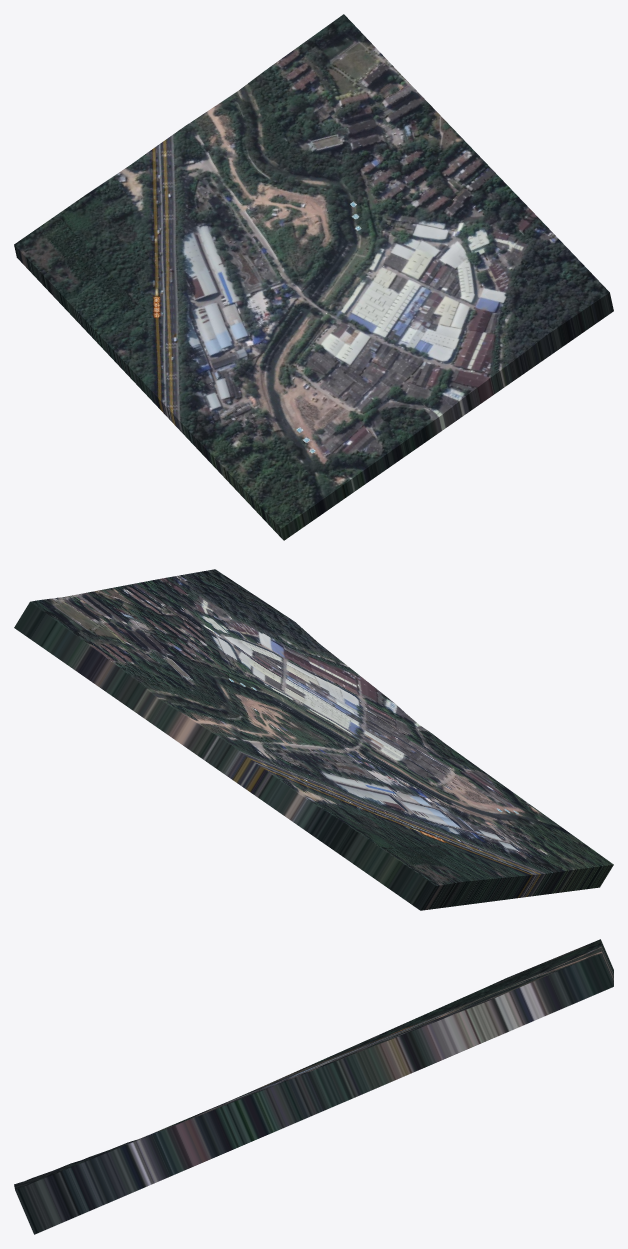
3 renders of one model, top to bottom at view 1: azimuth 30°, elevation 25°; view 2: azimuth 150°, elevation 25°; view 3: azimuth 270°, elevation 25°, orthographic. The views are drawn at different scales.
Visible parts, largest first — view 1: 0_0_30; view 2: 0_0_30; view 3: 0_0_30.
Part boxes in pixels (x1=…): 0_0_30: x1=14, y1=14, x2=613, y2=540; 0_0_30: x1=14, y1=569, x2=613, y2=910; 0_0_30: x1=14, y1=939, x2=613, y2=1234.
Bounding box in the file's own units: 604 × 457 × 561.
Materials: 1 (1 with a texture image).
